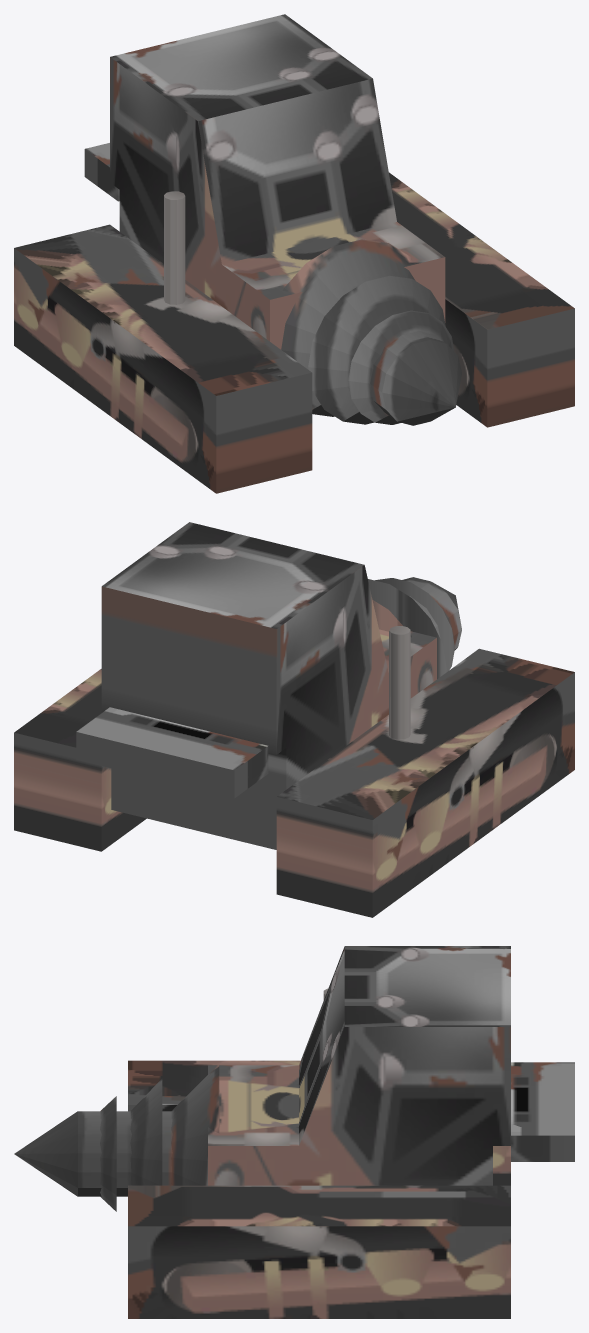
The model's file is Building_AncientExcavator.glb.
3 renders of one model, top to bottom at view 1: azimuth 30°, elevation 25°; view 2: azimuth 150°, elevation 25°; view 3: azimuth 270°, elevation 25°, orthographic. The views are drawn at different scales.
Parts seen in each view (by area): view 1: AncientExcavator; view 2: AncientExcavator; view 3: AncientExcavator.
Boxes of the visible parts, <box> form: AncientExcavator: <box>14,14,574,493</box>; AncientExcavator: <box>14,522,574,917</box>; AncientExcavator: <box>14,946,574,1318</box>.
Bounding box in the file's own units: 2.69 × 1.9 × 3.84.
Materials: 1 (1 with a texture image).
